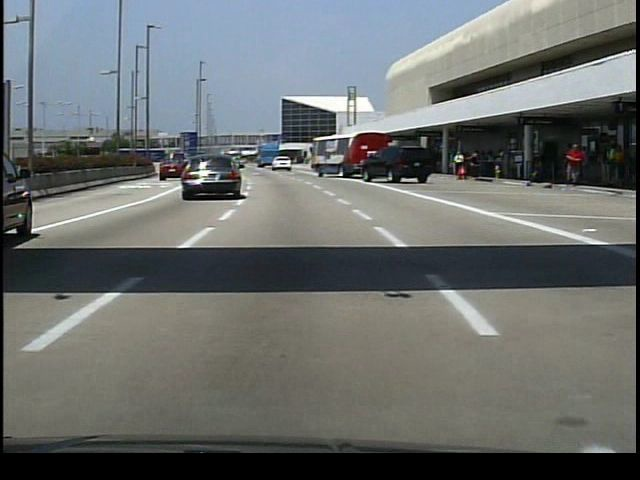person: (560, 141, 587, 189), (453, 151, 468, 183)
